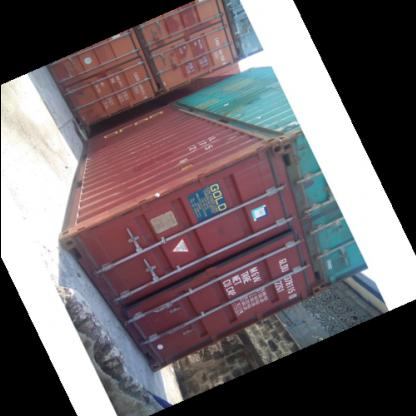Damage: (133, 178, 181, 204)
